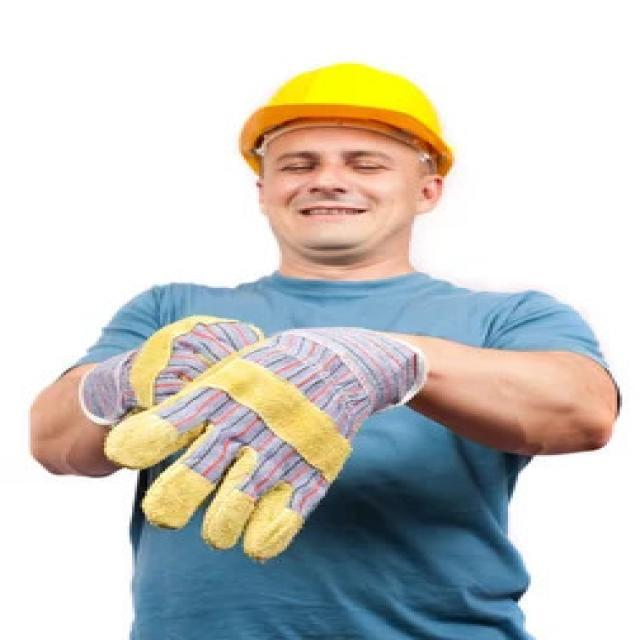gloves: (104, 327, 433, 565), (82, 314, 256, 426)
